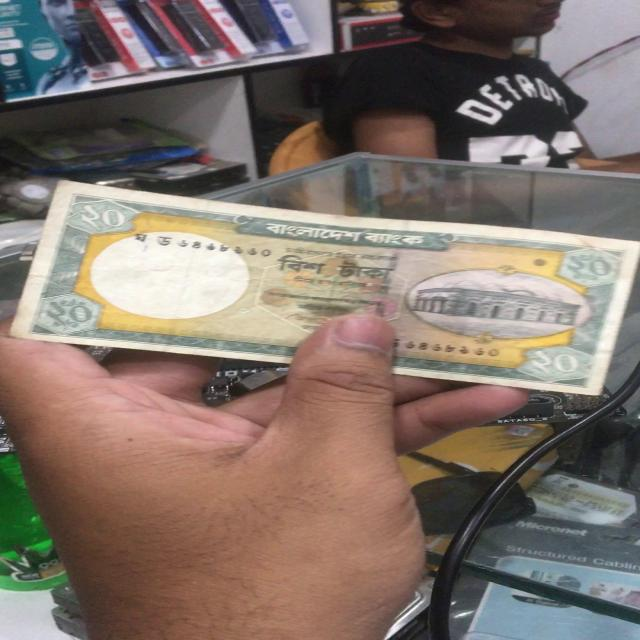Taka: (33, 178, 600, 398)
